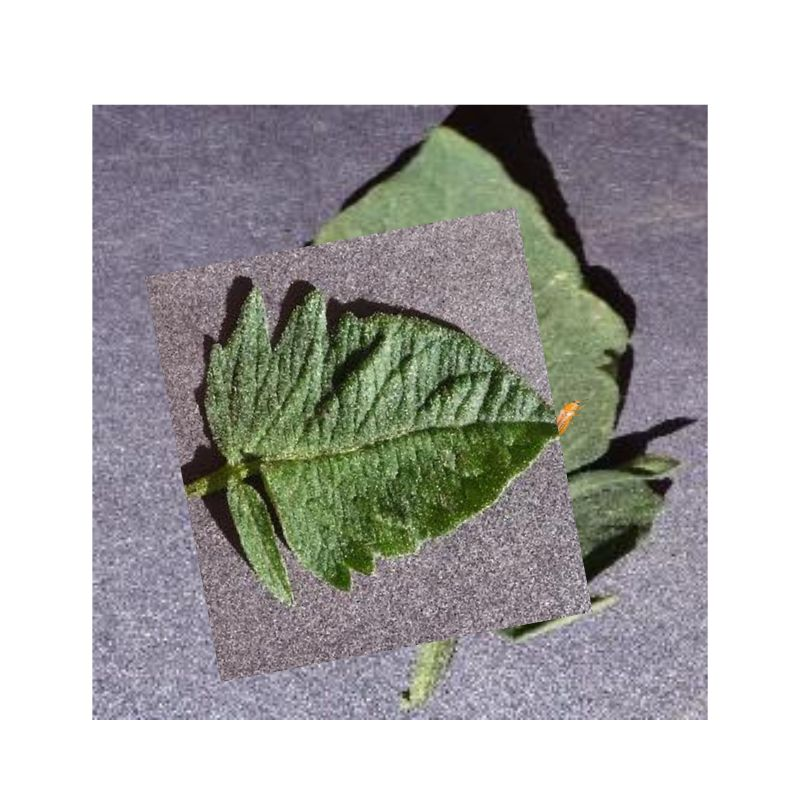thrips: (555, 397, 582, 437)
